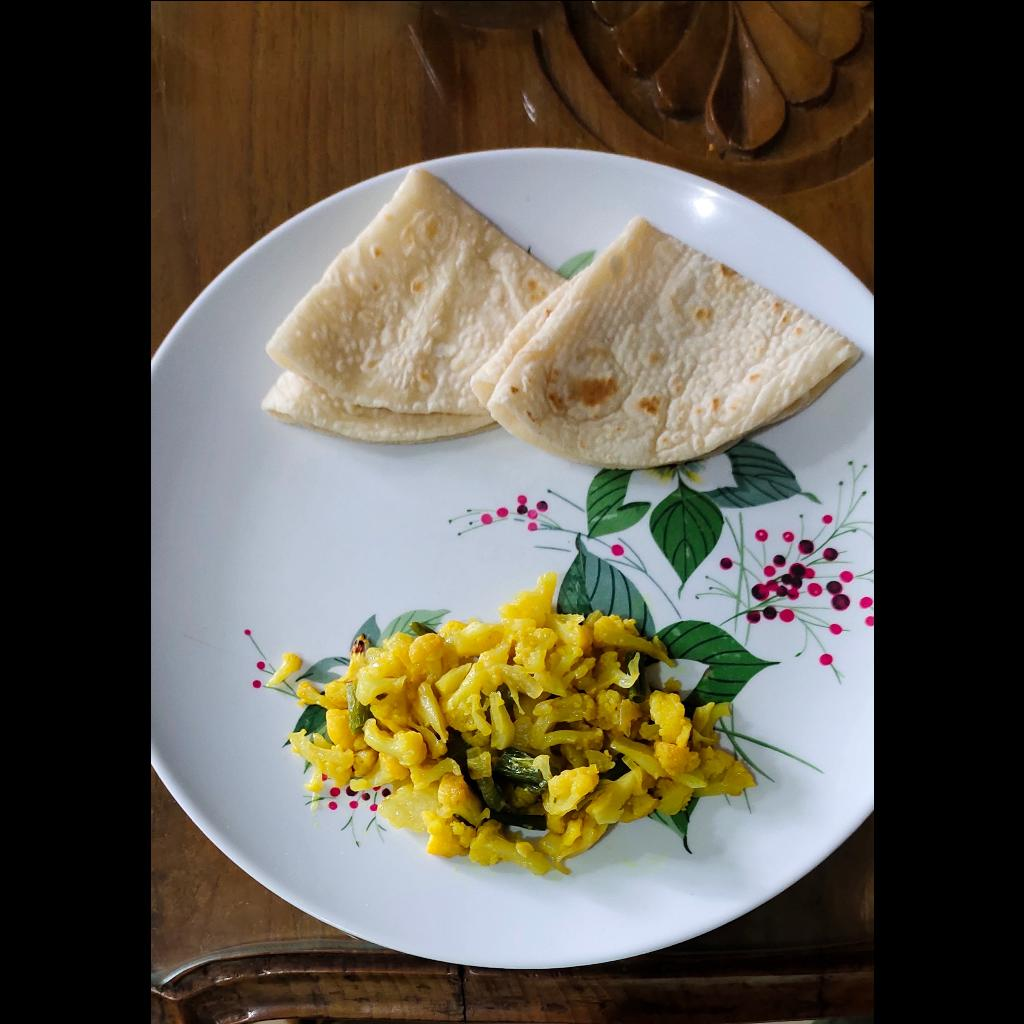cauliflower: (267, 560, 763, 877)
ruti: (252, 156, 873, 473)
